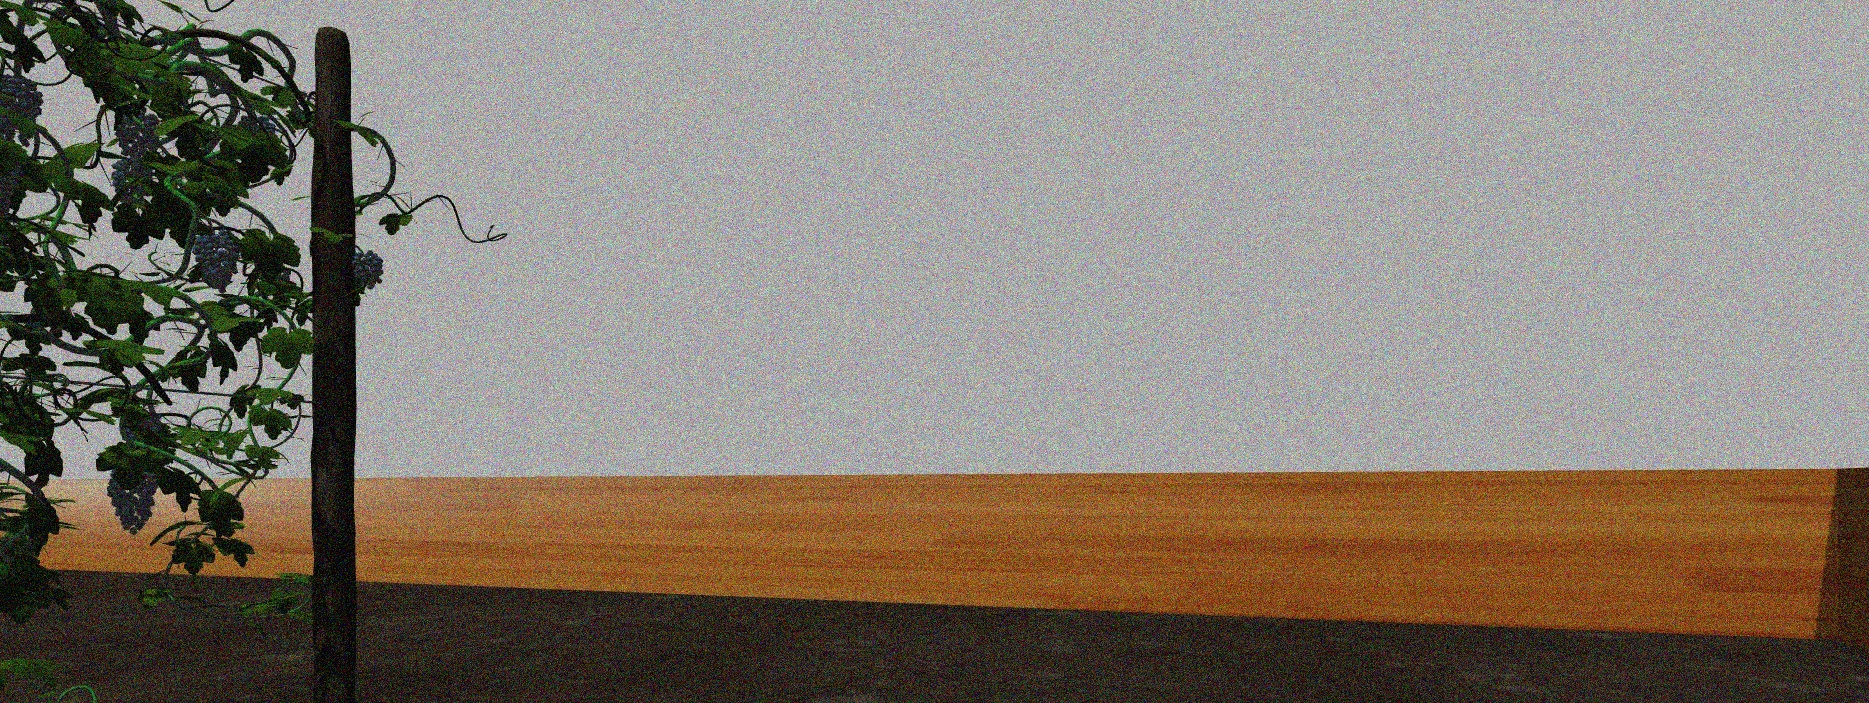grape: (108, 465, 157, 535), (0, 76, 44, 144), (192, 230, 240, 291), (114, 107, 160, 162), (110, 160, 154, 205), (352, 250, 384, 286)
